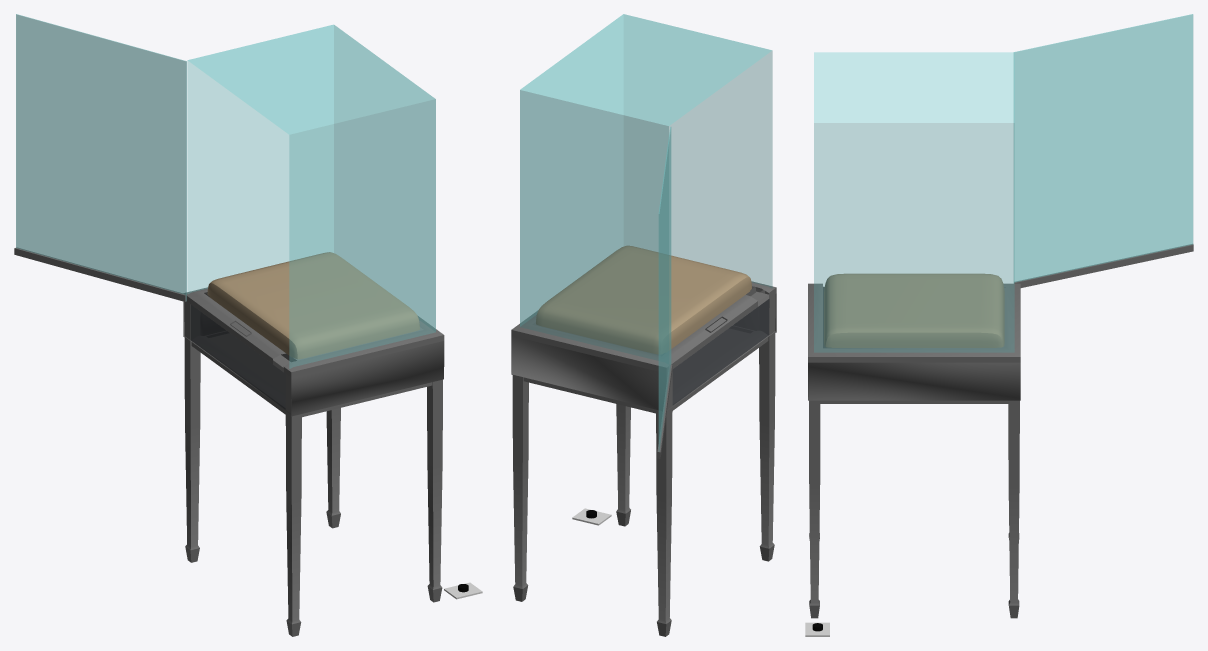
The model's file is SHOWCASE-ilha-only.glb.
3 views of the same model, side by side, from view 1: azimuth 30°, elevation 25°; view 2: azimuth 150°, elevation 25°; view 3: azimuth 270°, elevation 25° (orthographic). The views are drawn at different scales.
Parts seen in each view (by area): view 1: trophytable1_short_Cube.003, Cube.001, trophytable1_short_Cube.008, trophytable1_short_Cube.004, trophytable1_short_Cube.001, Cube.002; view 2: trophytable1_short_Cube.003, trophytable1_short_Cube.008, trophytable1_short_Cube.004, trophytable1_short_Cube.001, Cube.001, Cube.003, Cube.002; view 3: trophytable1_short_Cube.003, Cube.001, trophytable1_short_Cube.008, trophytable1_short_Cube.004, Cube.002.
Part boxes in pixels (x1=…): trophytable1_short_Cube.003: x1=187, y1=24, x2=435, y2=368; Cube.001: x1=16, y1=14, x2=186, y2=300; trophytable1_short_Cube.008: x1=183, y1=287, x2=444, y2=636; trophytable1_short_Cube.004: x1=207, y1=252, x2=419, y2=359; trophytable1_short_Cube.001: x1=190, y1=304, x2=285, y2=409; Cube.002: x1=14, y1=247, x2=186, y2=301; trophytable1_short_Cube.003: x1=520, y1=14, x2=772, y2=360; trophytable1_short_Cube.008: x1=511, y1=281, x2=776, y2=636; trophytable1_short_Cube.004: x1=536, y1=245, x2=751, y2=354; trophytable1_short_Cube.001: x1=672, y1=299, x2=769, y2=405; Cube.001: x1=658, y1=127, x2=671, y2=451; Cube.003: x1=572, y1=508, x2=611, y2=525; Cube.002: x1=657, y1=364, x2=672, y2=458; trophytable1_short_Cube.003: x1=814, y1=52, x2=1014, y2=352; Cube.001: x1=1013, y1=14, x2=1193, y2=282; trophytable1_short_Cube.008: x1=808, y1=283, x2=1020, y2=618; trophytable1_short_Cube.004: x1=824, y1=273, x2=1004, y2=347; Cube.002: x1=1014, y1=244, x2=1193, y2=287.
Size of the model in its own units: 1.35 by 2.38 by 1.69.
